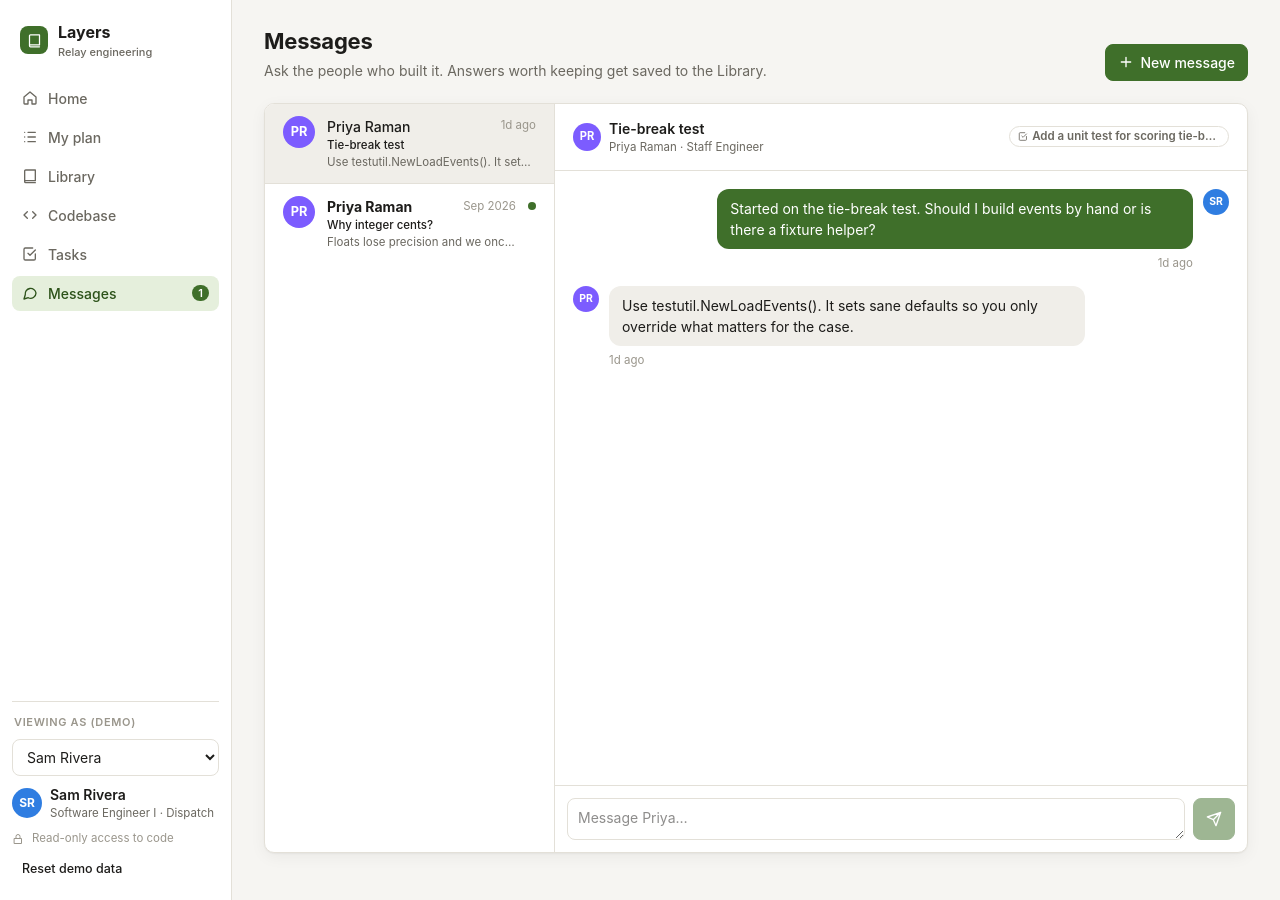
Test: Messages › sends a message with Enter
Step 1. Type "Thanks!" into the text box with placeholder "Message Priya…" → [876, 818], box left=567, top=798, right=1185, bottom=840
Then press Enter
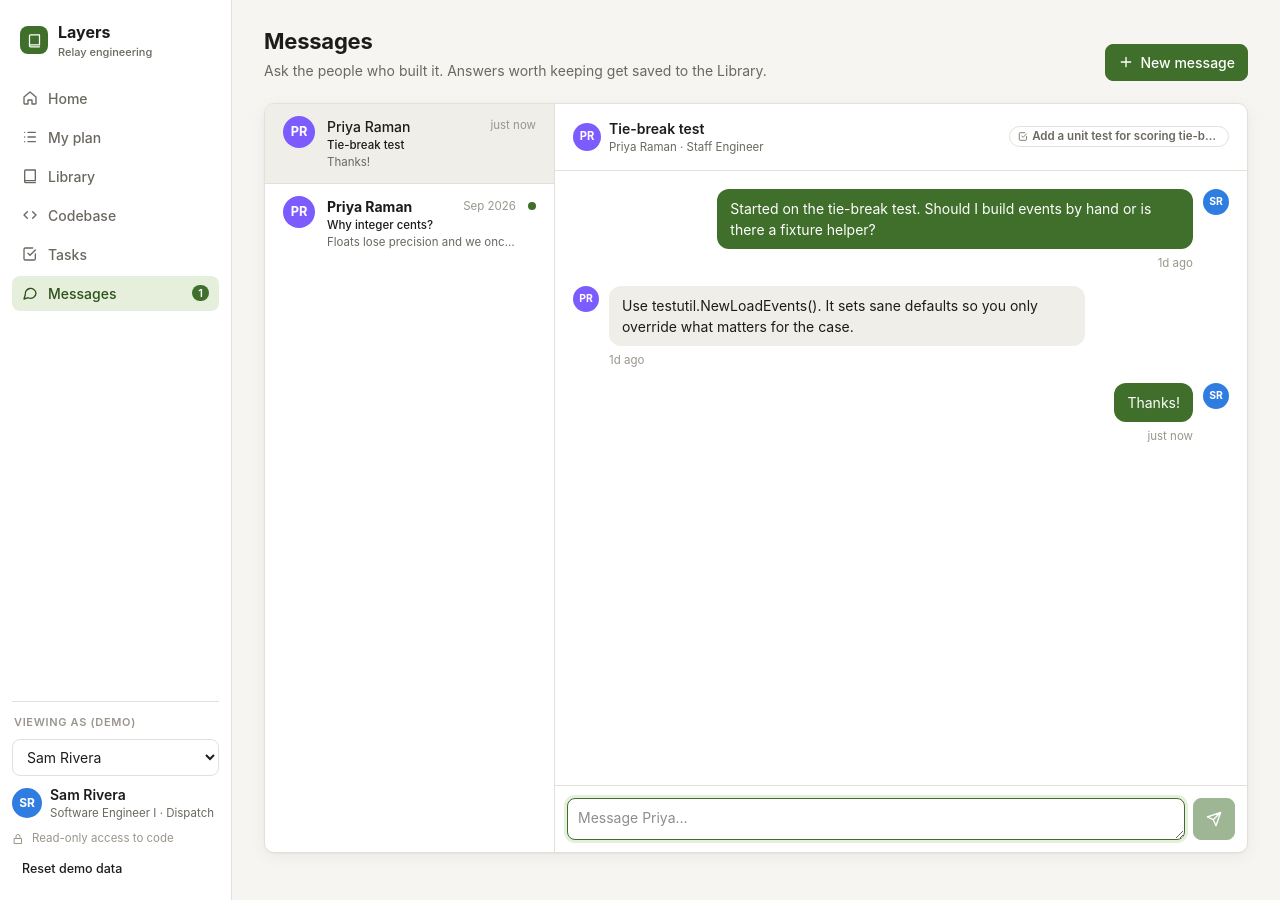
Check: the text "Thanks!" below "Add a unit test for scoring tie-breaks" is shown, box left=1127, top=394, right=1180, bottom=411
